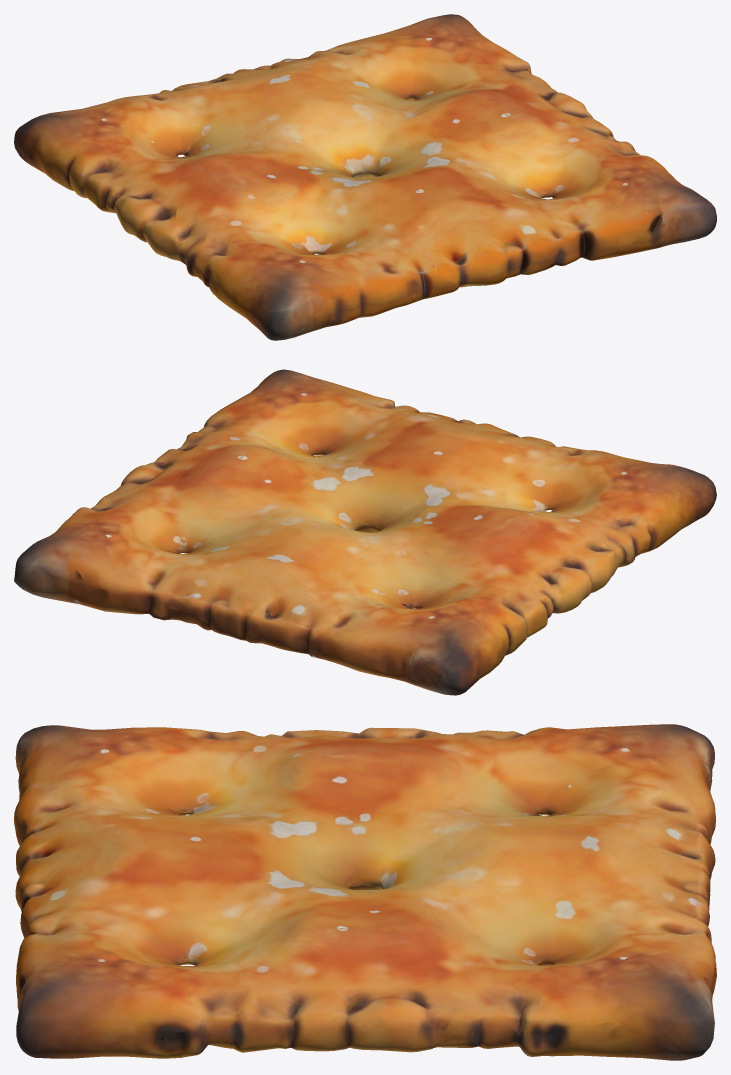
Rendered from cracker.glb.
3 renders of one model, top to bottom at view 1: azimuth 30°, elevation 25°; view 2: azimuth 150°, elevation 25°; view 3: azimuth 270°, elevation 25°, orthographic. The views are drawn at different scales.
Bounding box in the file's own units: 2 × 0.3072 × 2.
Materials: 1 (1 with a texture image).
